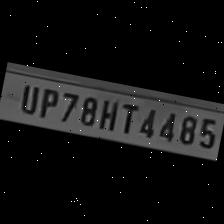4: (134, 104, 160, 140), (154, 106, 180, 142)
5: (194, 113, 220, 150)
7: (54, 89, 80, 126)
8: (75, 92, 101, 129), (174, 110, 200, 146)
H: (94, 96, 120, 132)
P: (34, 84, 60, 120)
T: (114, 100, 140, 136)
U: (14, 80, 42, 116)
